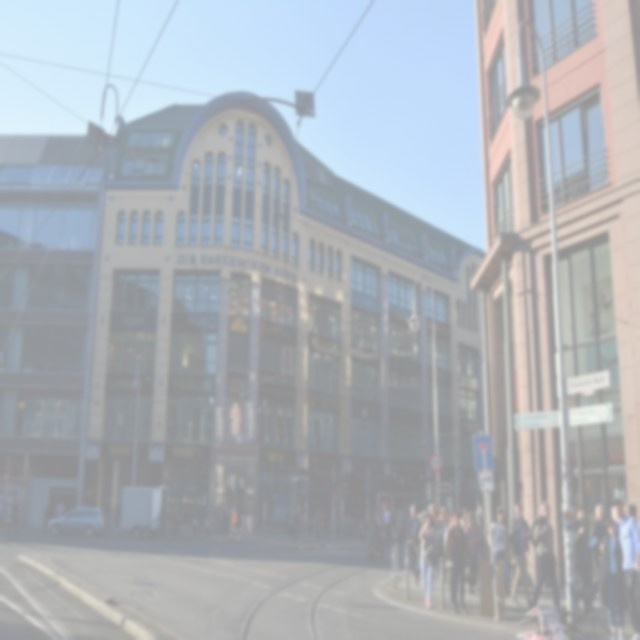pessoa: (598, 496, 640, 639), (528, 500, 562, 614), (596, 517, 626, 639), (414, 500, 448, 590), (508, 502, 536, 609), (572, 504, 597, 614), (445, 514, 472, 615), (487, 506, 513, 602), (418, 511, 440, 609), (473, 497, 492, 587), (443, 513, 460, 609), (159, 493, 186, 552), (462, 512, 480, 596), (4, 484, 29, 543), (589, 503, 609, 566), (404, 503, 420, 578), (363, 504, 383, 562), (47, 492, 71, 540), (220, 496, 238, 548), (106, 494, 124, 542), (392, 500, 406, 550), (312, 509, 327, 552), (286, 502, 300, 547), (455, 507, 472, 532), (382, 504, 392, 542), (624, 501, 638, 524)
